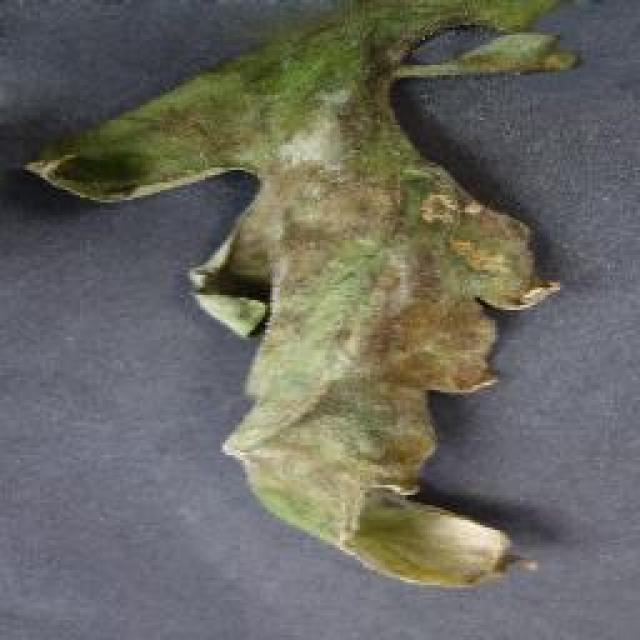Tomato___Late_blight: (24, 0, 579, 590)
